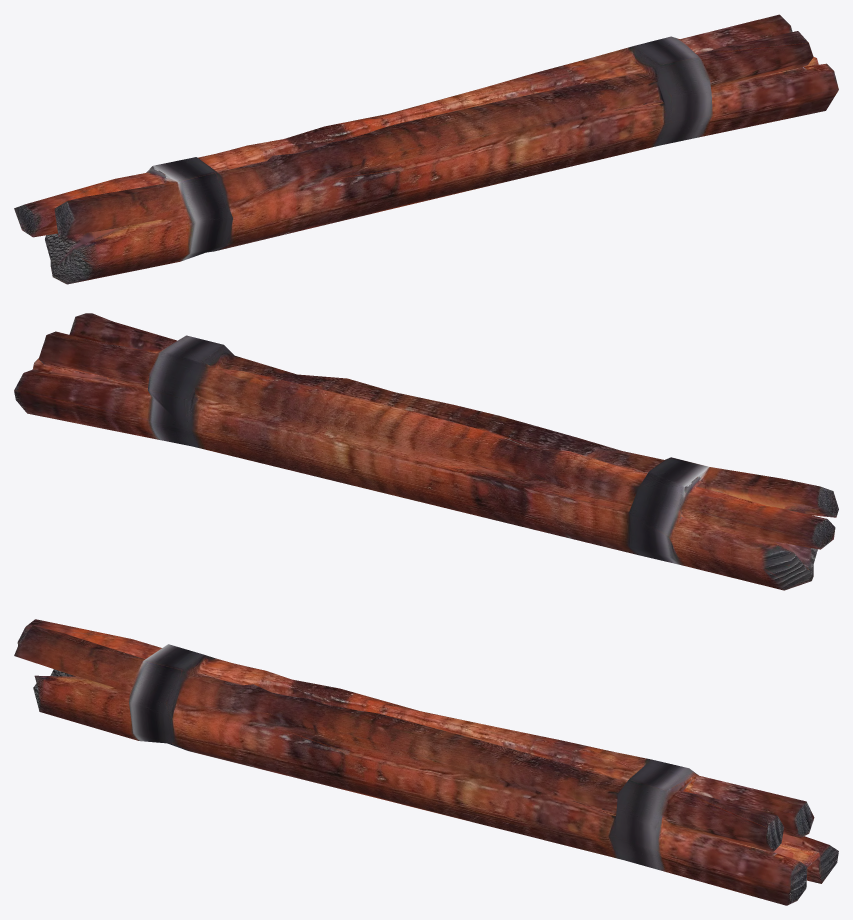
File: crossbow-ammo.glb
3 views of the same model, one above another, from view 1: azimuth 30°, elevation 25°; view 2: azimuth 150°, elevation 25°; view 3: azimuth 330°, elevation 25° (orthographic).
Parts seen in each view (by area): view 1: Mesh_0; view 2: Mesh_0; view 3: Mesh_0.
Part boxes in pixels (<box>): Mesh_0: <box>14,14,838,284</box>; Mesh_0: <box>14,313,838,590</box>; Mesh_0: <box>14,619,838,905</box>.
Bounding box in the file's own units: 1.91 × 0.2103 × 0.2277.
1 material, 1 textured.
